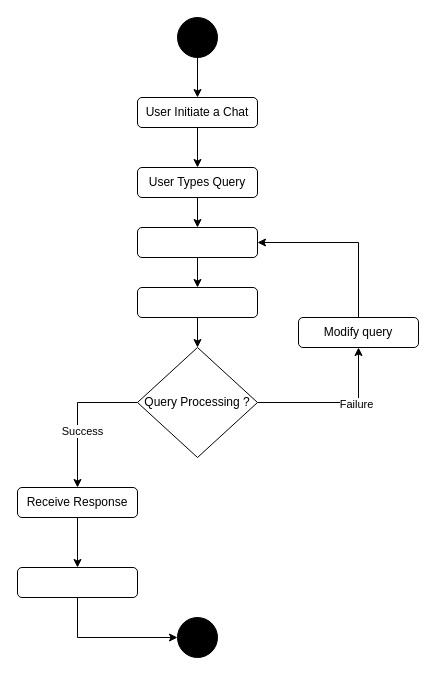
Some shapes in this 436 by 675 pixel diagram are drawn without their labels. Each missing label, with the centre of its shape:
"Display Respose to User" belongs at (77,582).
"FastBot API" belongs at (197,242).
"Process Query" belongs at (197,302).
